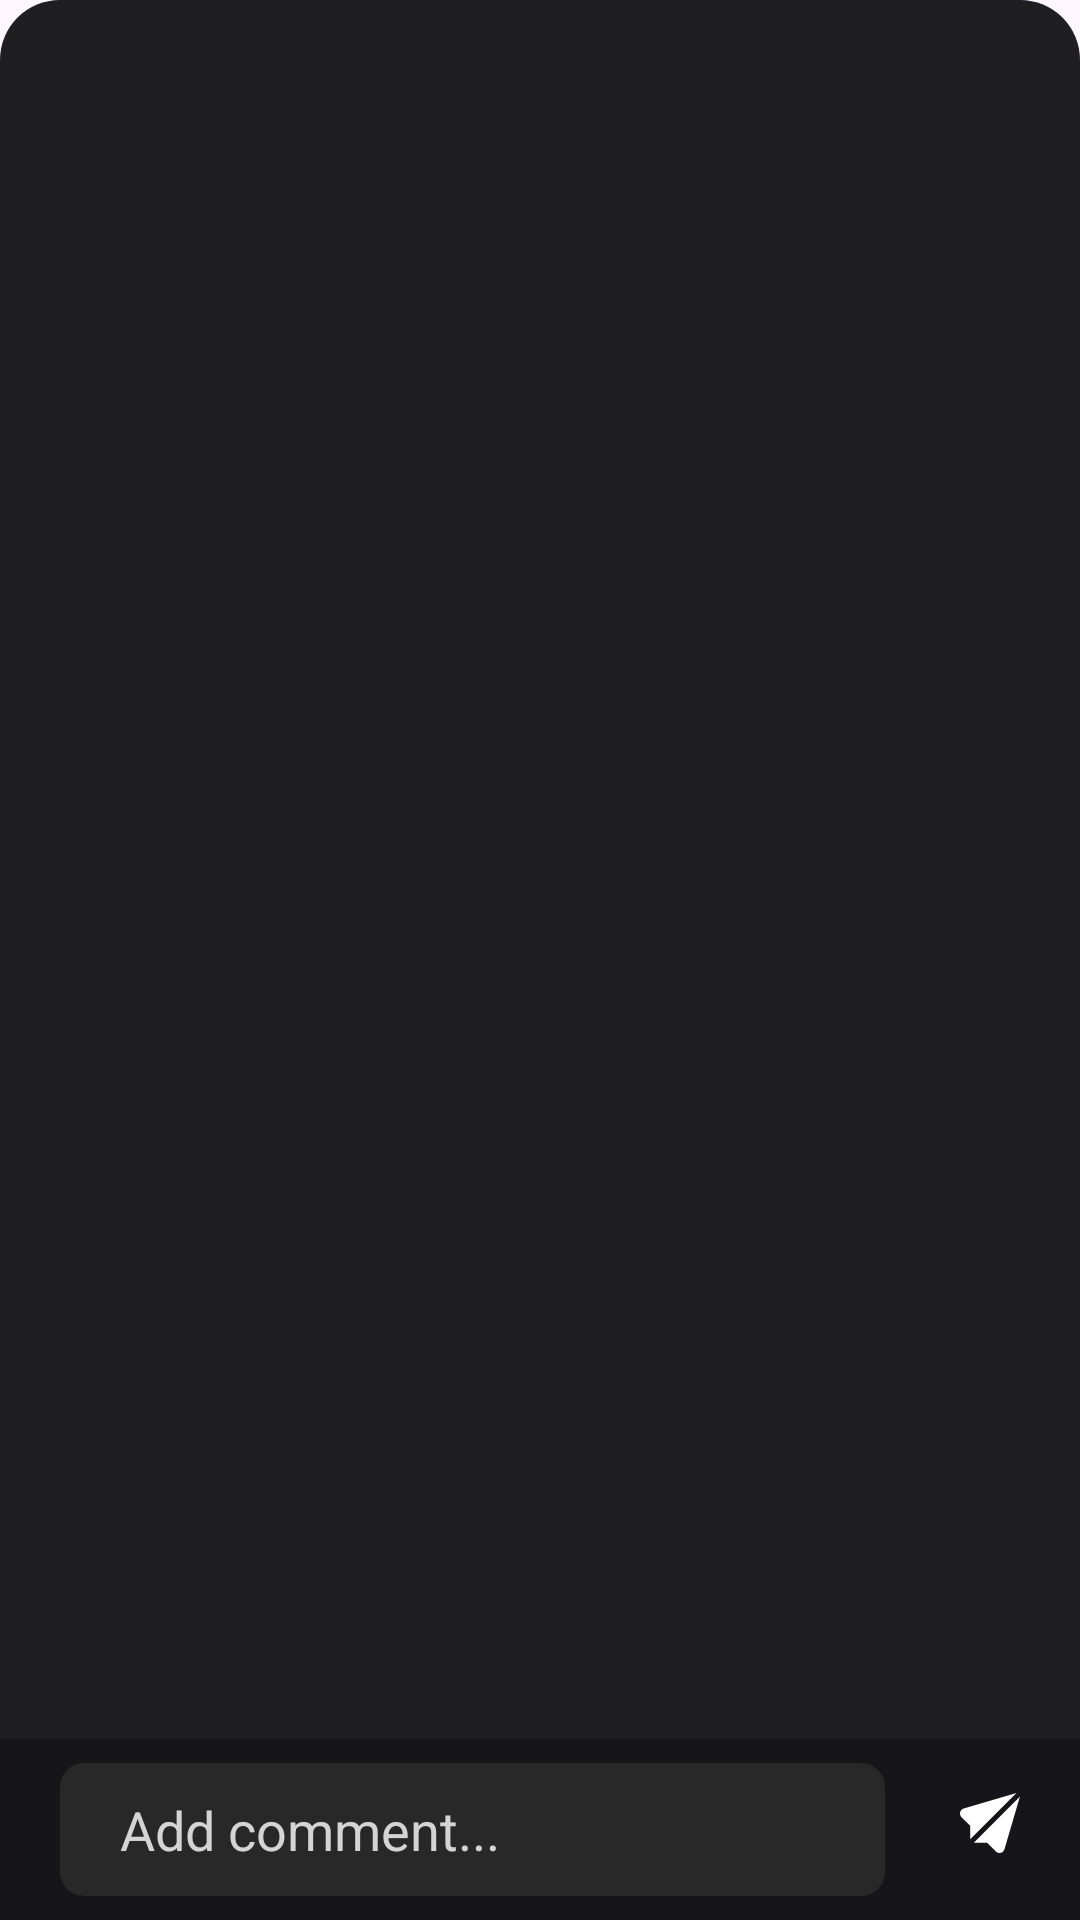

Where to tap for icons on this 1080*1920 app screen, as (x=x, y=y):
message: (x=990, y=1823)
